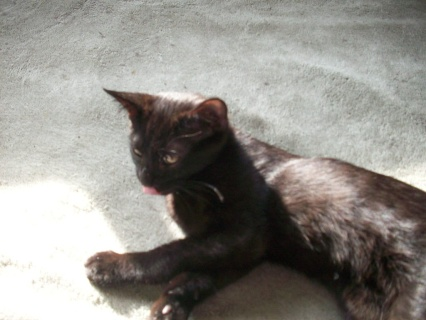Cat: (80, 80, 426, 318)
